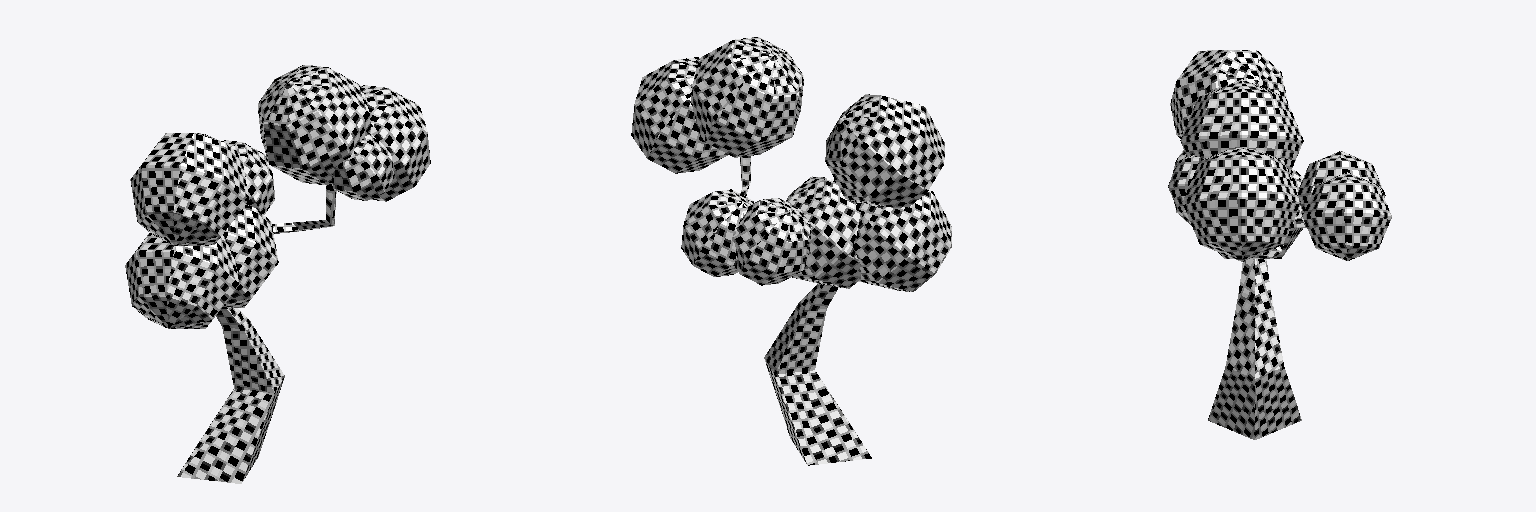
3 renders of one model, left to right at view 1: azimuth 30°, elevation 25°; view 2: azimuth 150°, elevation 25°; view 3: azimuth 270°, elevation 25°, orthographic.
Parts seen in each view (by area): view 1: Arbol_07; view 2: Arbol_07; view 3: Arbol_07.
Boxes of the visible parts, x1=… form: Arbol_07: x1=125, y1=65, x2=430, y2=483; Arbol_07: x1=631, y1=37, x2=951, y2=465; Arbol_07: x1=1168, y1=50, x2=1391, y2=439.
Bounding box in the file's own units: 41.82 × 50.39 × 27.09.
1 materials, 1 textured.